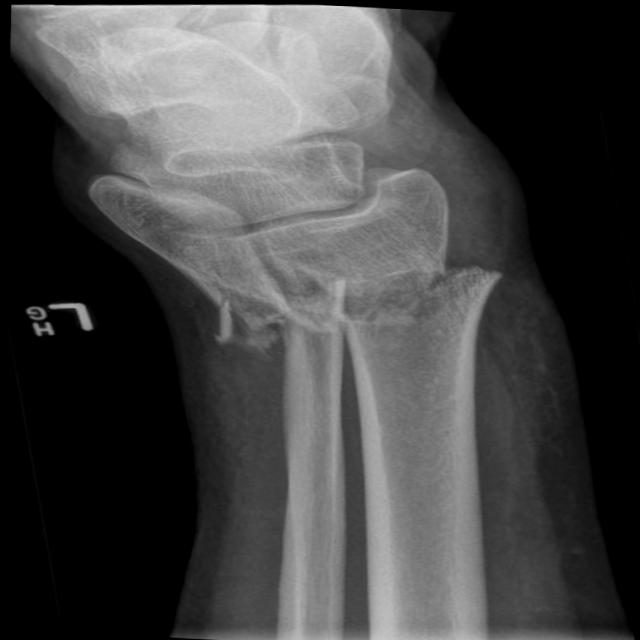Comminuted: (324, 244, 507, 347), (200, 276, 357, 359)
